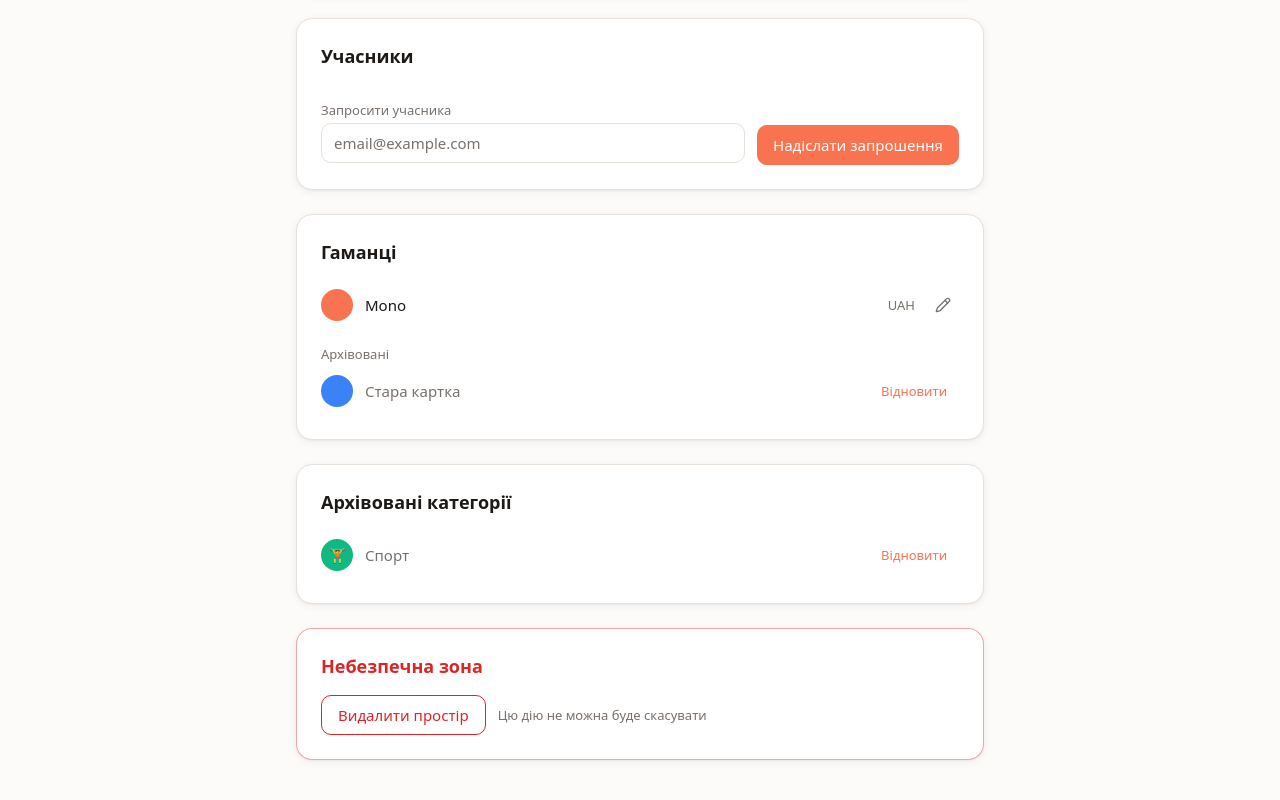
Test: SettingsPage › restores an archived category and an archived wallet
(page scrolled)
Click the button with aria-label "Відновити: Спорт".
click(914, 555)  # box [869, 539, 959, 571]
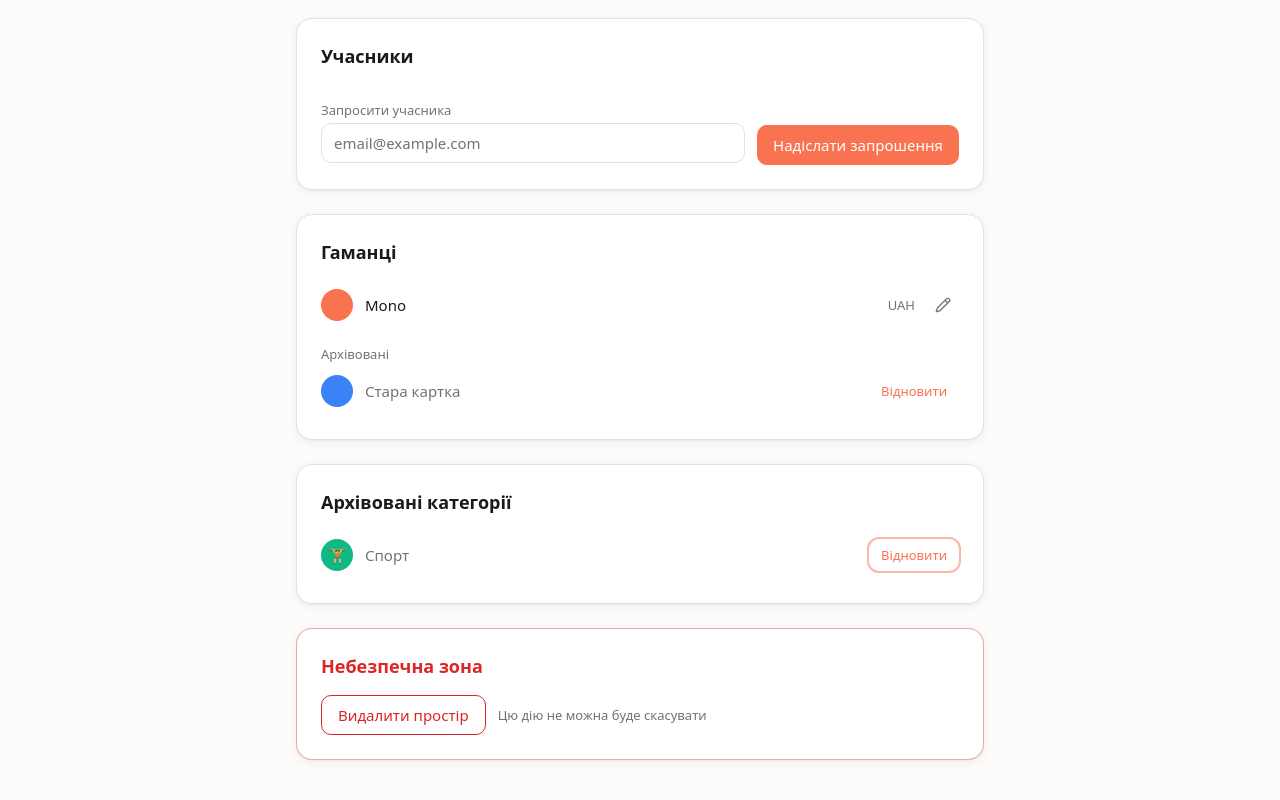
Click the button with aria-label "Відновити: Стара картка".
click(914, 391)  # box [869, 375, 959, 407]
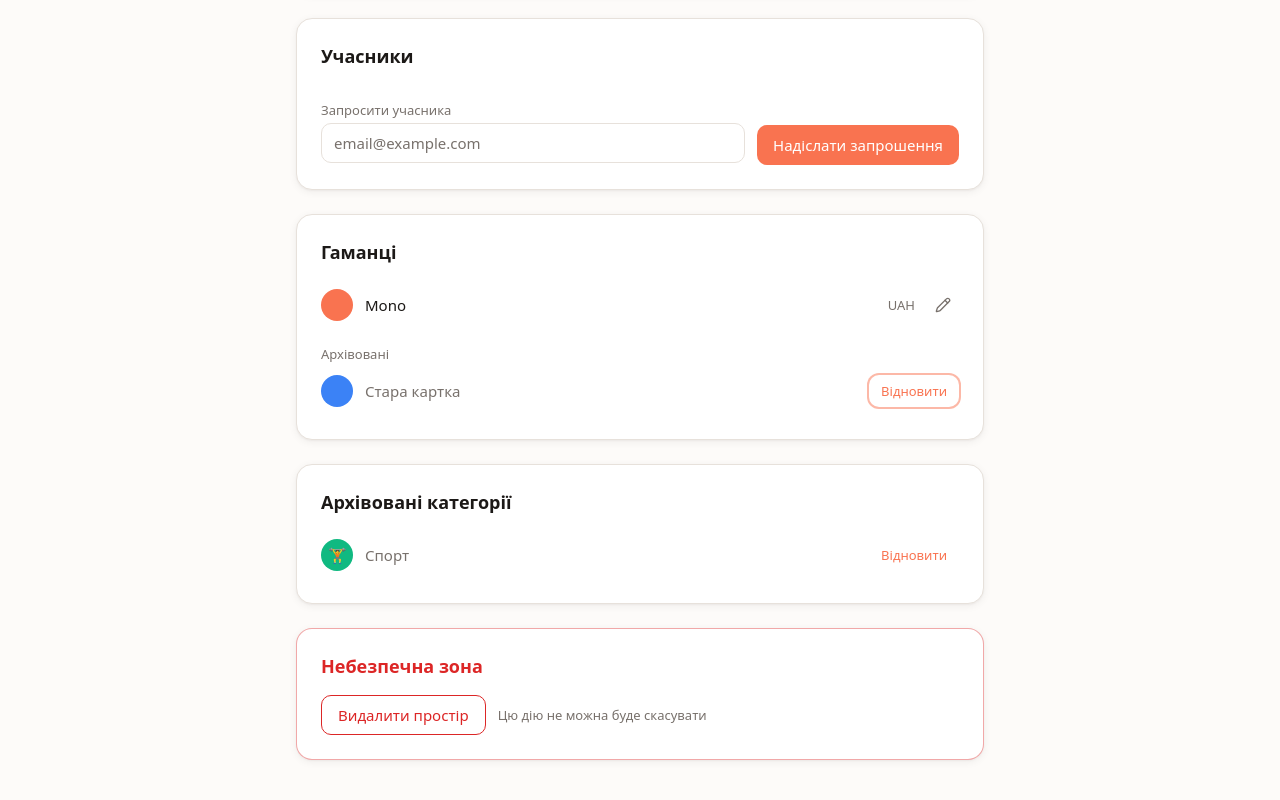
Click the button named "Редагувати: Mono".
click(943, 305)  # box [927, 289, 959, 321]
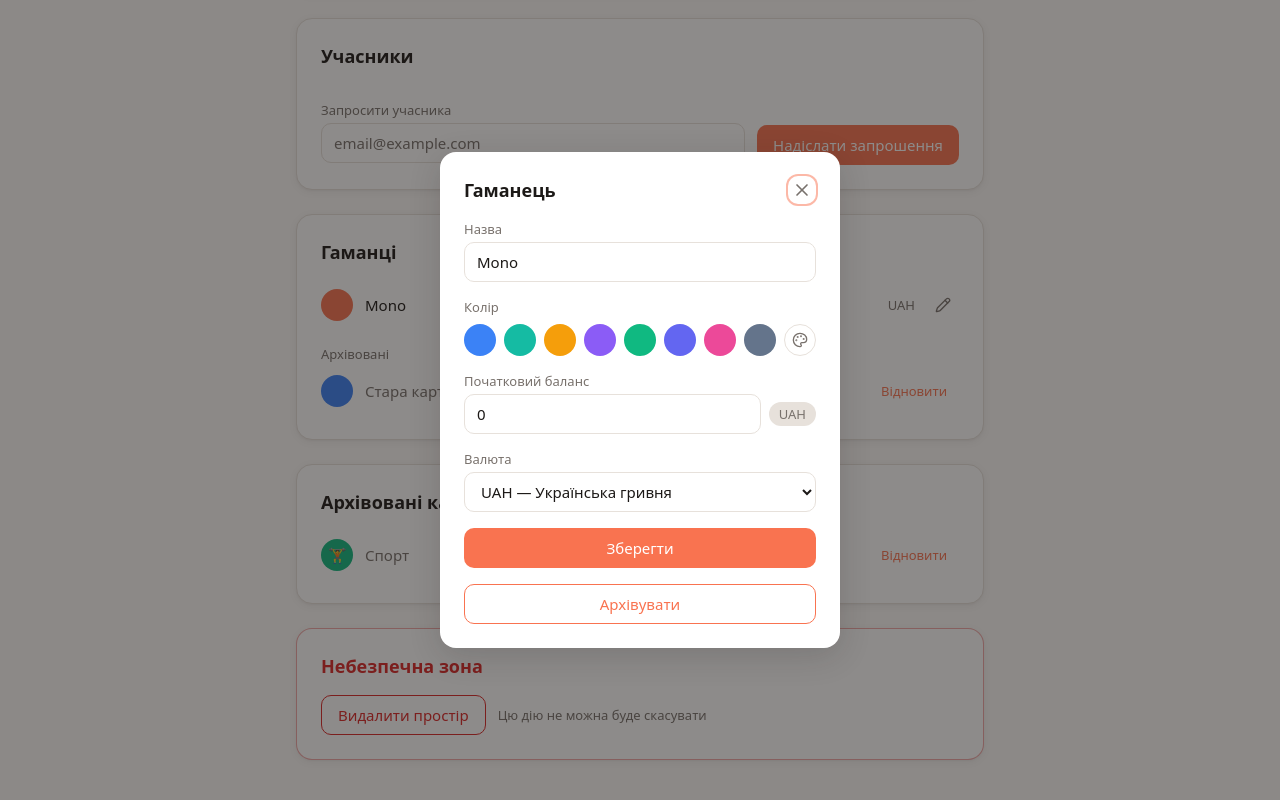
Now the dialog "Гаманець" is shown, box [440, 152, 840, 648]
